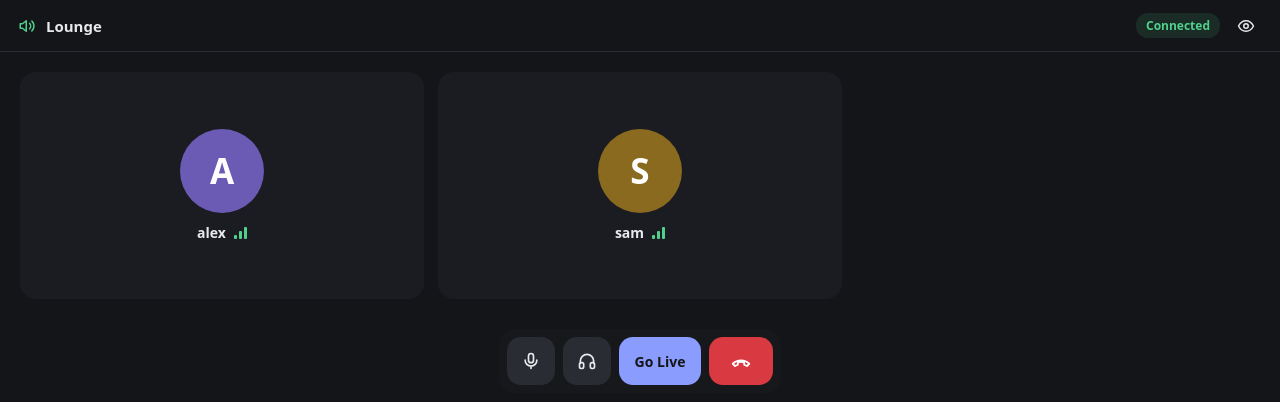
Scenario: ParticipantMenu › right_click_on_a_tile_opens_the_menu
This screenshot has width=1280, height=402.
Right-click the element showing "S sam" at (640, 186), box top-left (438, 72), bottom-right (842, 299)
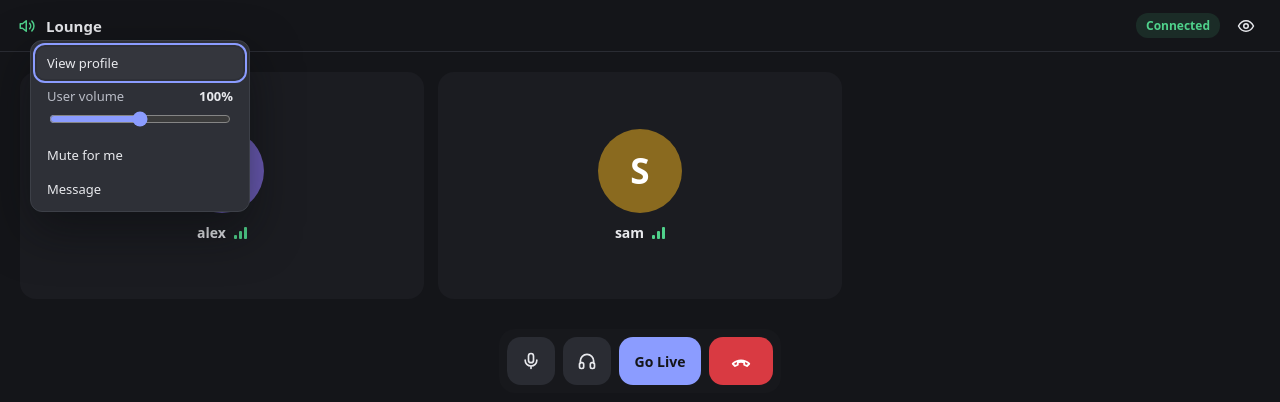
Result: the menu is shown at top-left (30, 40), bottom-right (250, 212)
Result: the slider named "User volume" is shown at top-left (49, 111), bottom-right (231, 127)
